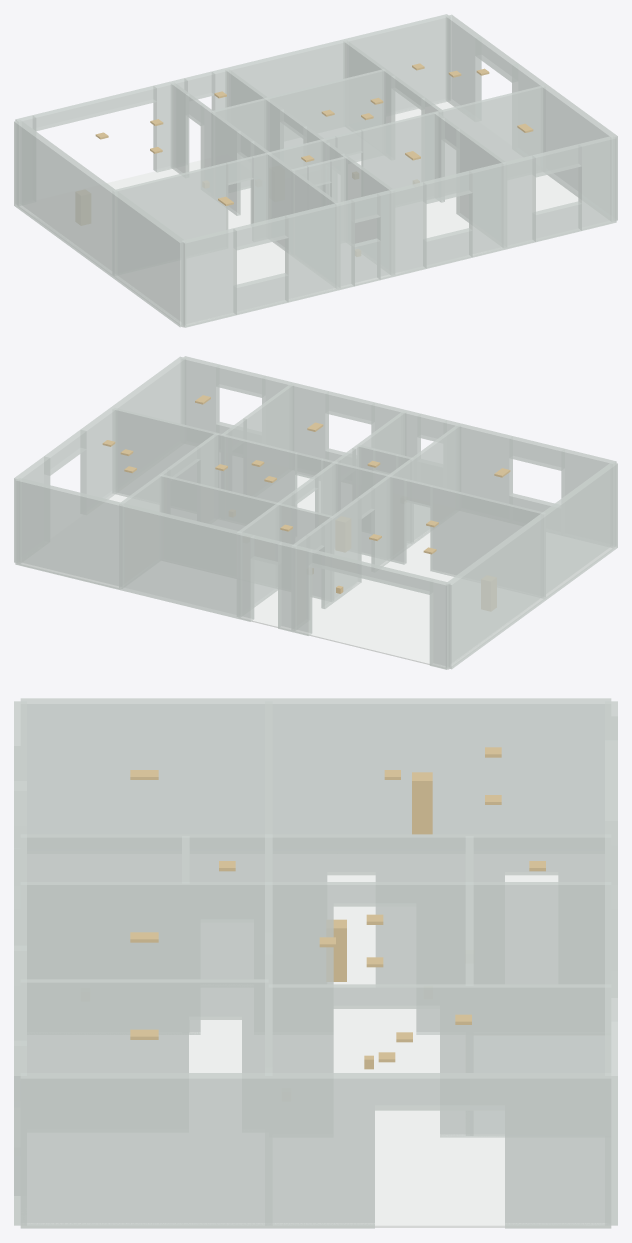
File: cooper-residence-coordinated-review.glb
3 renders of one model, top to bottom at view 1: azimuth 30°, elevation 25°; view 2: azimuth 150°, elevation 25°; view 3: azimuth 270°, elevation 25°, orthographic. The views are drawn at different scales.
Visible parts, largest first — view 1: Architectural walls, Floor slab, Discipline fixtures; view 2: Architectural walls, Floor slab, Discipline fixtures; view 3: Architectural walls, Floor slab, Discipline fixtures.
Part boxes in pixels (x1,y1,x2,y2): Architectural walls: [14, 14, 617, 327]; Floor slab: [17, 100, 612, 327]; Discipline fixtures: [76, 63, 533, 256]; Architectural walls: [14, 356, 617, 669]; Floor slab: [19, 444, 614, 669]; Discipline fixtures: [102, 395, 510, 610]; Architectural walls: [14, 698, 617, 1228]; Floor slab: [21, 854, 610, 1227]; Discipline fixtures: [130, 747, 545, 1069].
Size of the model in its own units: 15.22 by 2.84 by 10.22.
